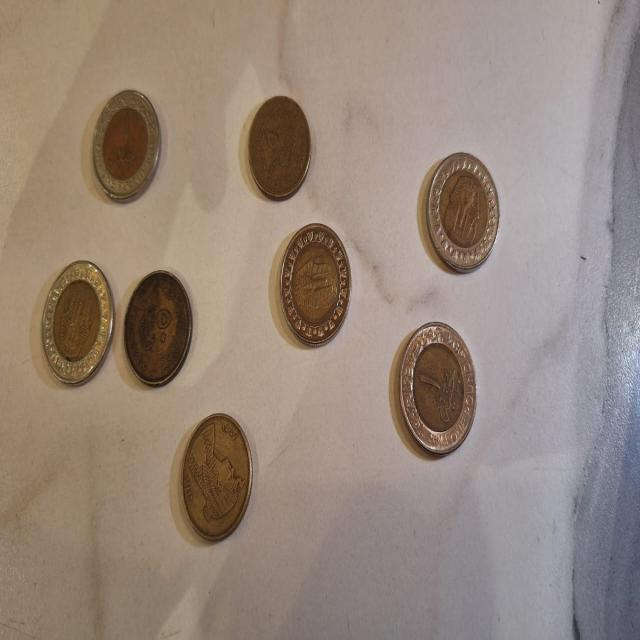Half Pound: (178, 412, 254, 543), (122, 267, 197, 391), (248, 89, 312, 208)
One Pound: (397, 322, 480, 457), (41, 253, 117, 391), (277, 222, 354, 349), (430, 148, 502, 266), (91, 87, 160, 204)
